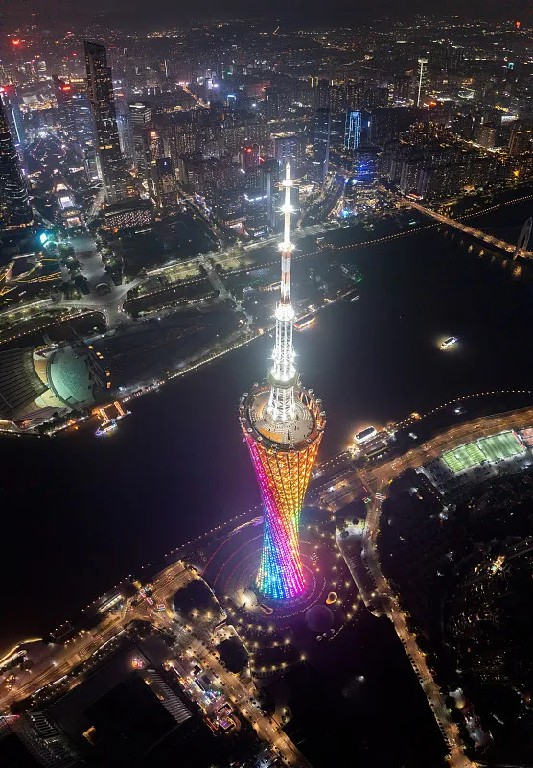Canton: (238, 161, 328, 601)
